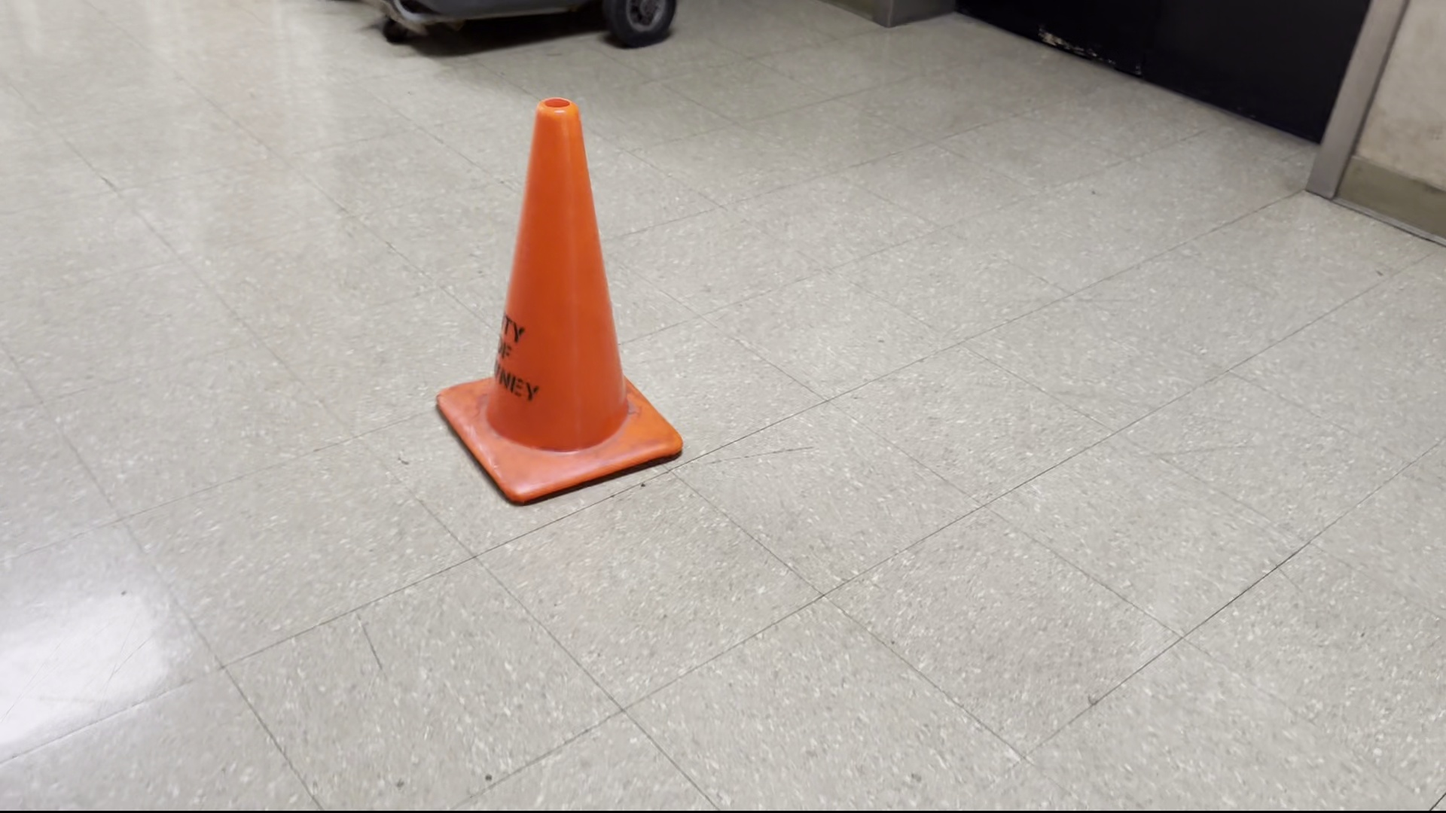traffic_cone: (435, 96, 684, 506)
